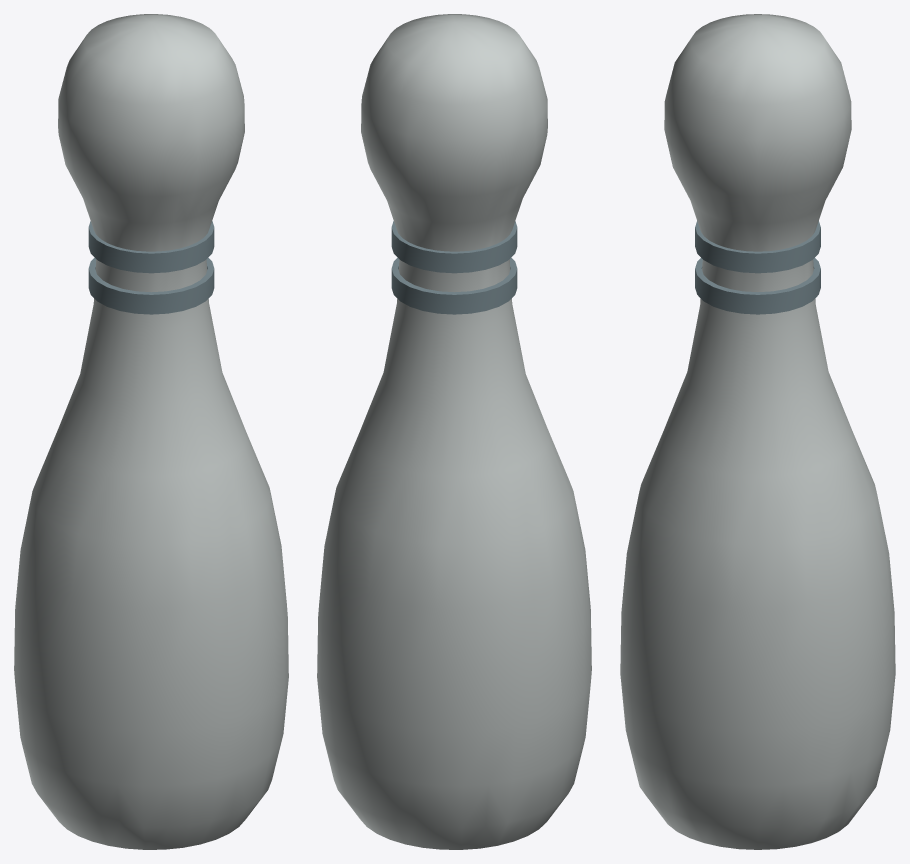
Rendered from bowling-pin.glb.
3 renders of one model, left to right at view 1: azimuth 30°, elevation 25°; view 2: azimuth 150°, elevation 25°; view 3: azimuth 270°, elevation 25°, orthographic.
Parts seen in each view (by area): view 1: pin, neck_band, neck_band.001; view 2: pin, neck_band, neck_band.001; view 3: pin, neck_band, neck_band.001.
Part boxes in pixels (bbox=[...]): pin: bbox=[14, 14, 288, 849]; neck_band: bbox=[88, 257, 214, 314]; neck_band.001: bbox=[88, 221, 214, 273]; pin: bbox=[317, 14, 591, 849]; neck_band: bbox=[391, 257, 517, 314]; neck_band.001: bbox=[391, 221, 517, 273]; pin: bbox=[620, 14, 895, 849]; neck_band: bbox=[695, 258, 820, 314]; neck_band.001: bbox=[695, 221, 820, 273].
Size of the model in its own units: 0.127 by 0.4025 by 0.127.
